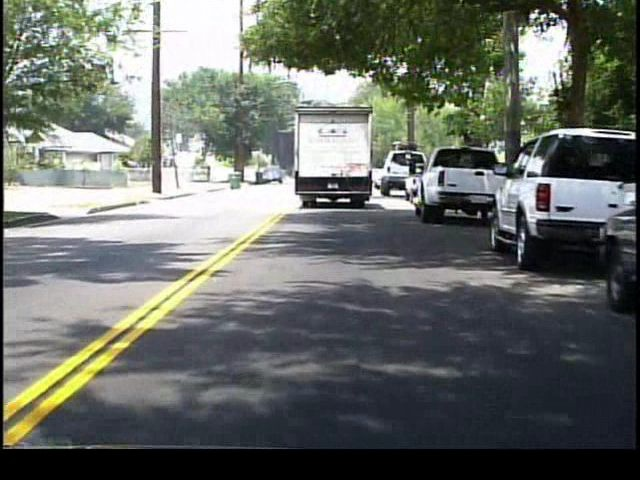person: (205, 162, 214, 183)
